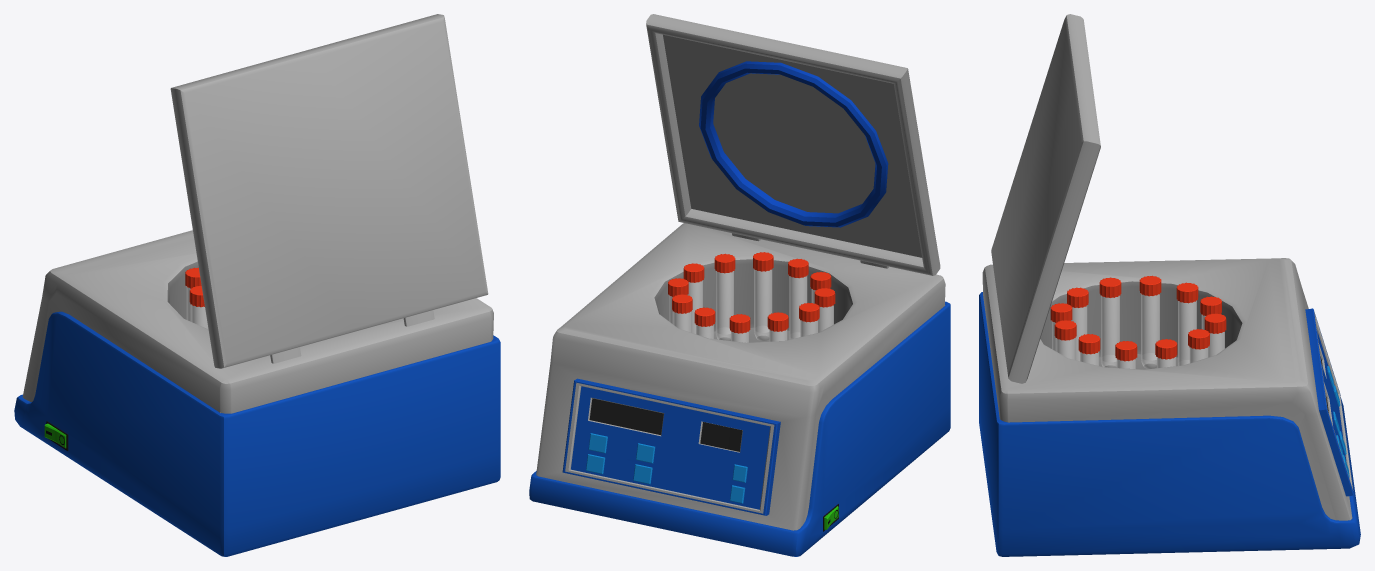
The model's file is laboratory-centrifuge-closed.glb.
The picture shows the model from 3 angles, left to right: view 1: azimuth 30°, elevation 25°; view 2: azimuth 150°, elevation 25°; view 3: azimuth 270°, elevation 25°; orthographic projection. The views are drawn at different scales.
Visible parts, largest first — view 1: Object_49, Object_53, Object_50; view 2: Object_49, Object_53, Object_51, Object_50; view 3: Object_49, Object_53, Object_51, Object_50.
Boxes of the visible parts, x1,y1,x2,y2 form: Object_49: (14,230,500,556); Object_53: (170,14,488,368); Object_50: (167,261,198,319); Object_49: (529,223,950,556); Object_53: (646,14,940,275); Object_51: (669,269,833,342); Object_50: (654,259,852,342); Object_49: (979,258,1360,556); Object_53: (991,14,1100,383); Object_51: (1052,293,1224,369); Object_50: (1040,281,1242,369).
Size of the model in its own units: 0.3041 by 0.4097 by 0.3437.
Materials: 3 (2 with a texture image).
